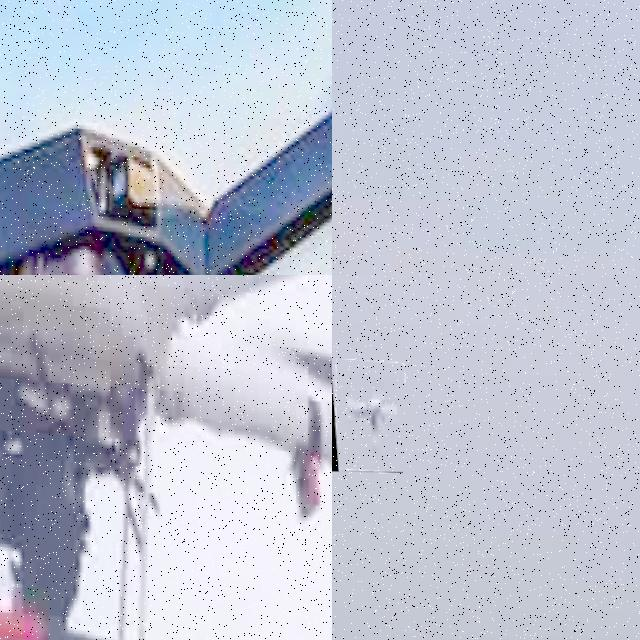0: (0, 275, 332, 640), (332, 359, 404, 472)
drone: (0, 0, 332, 275)
